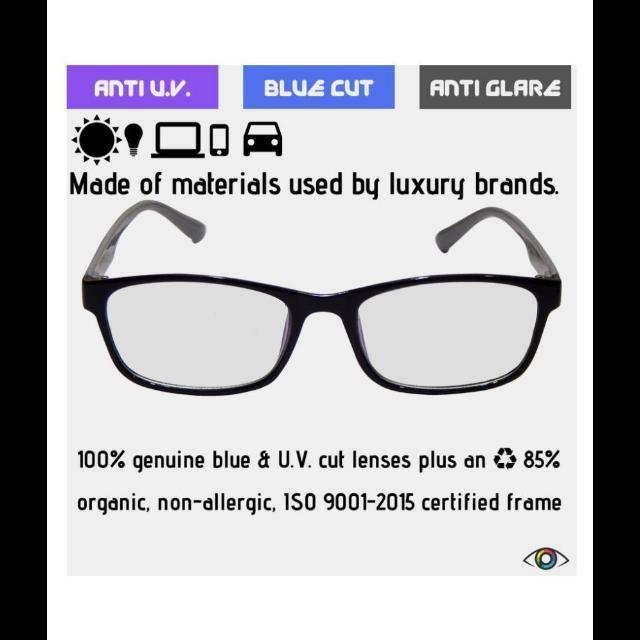glasses: (79, 198, 572, 398)
